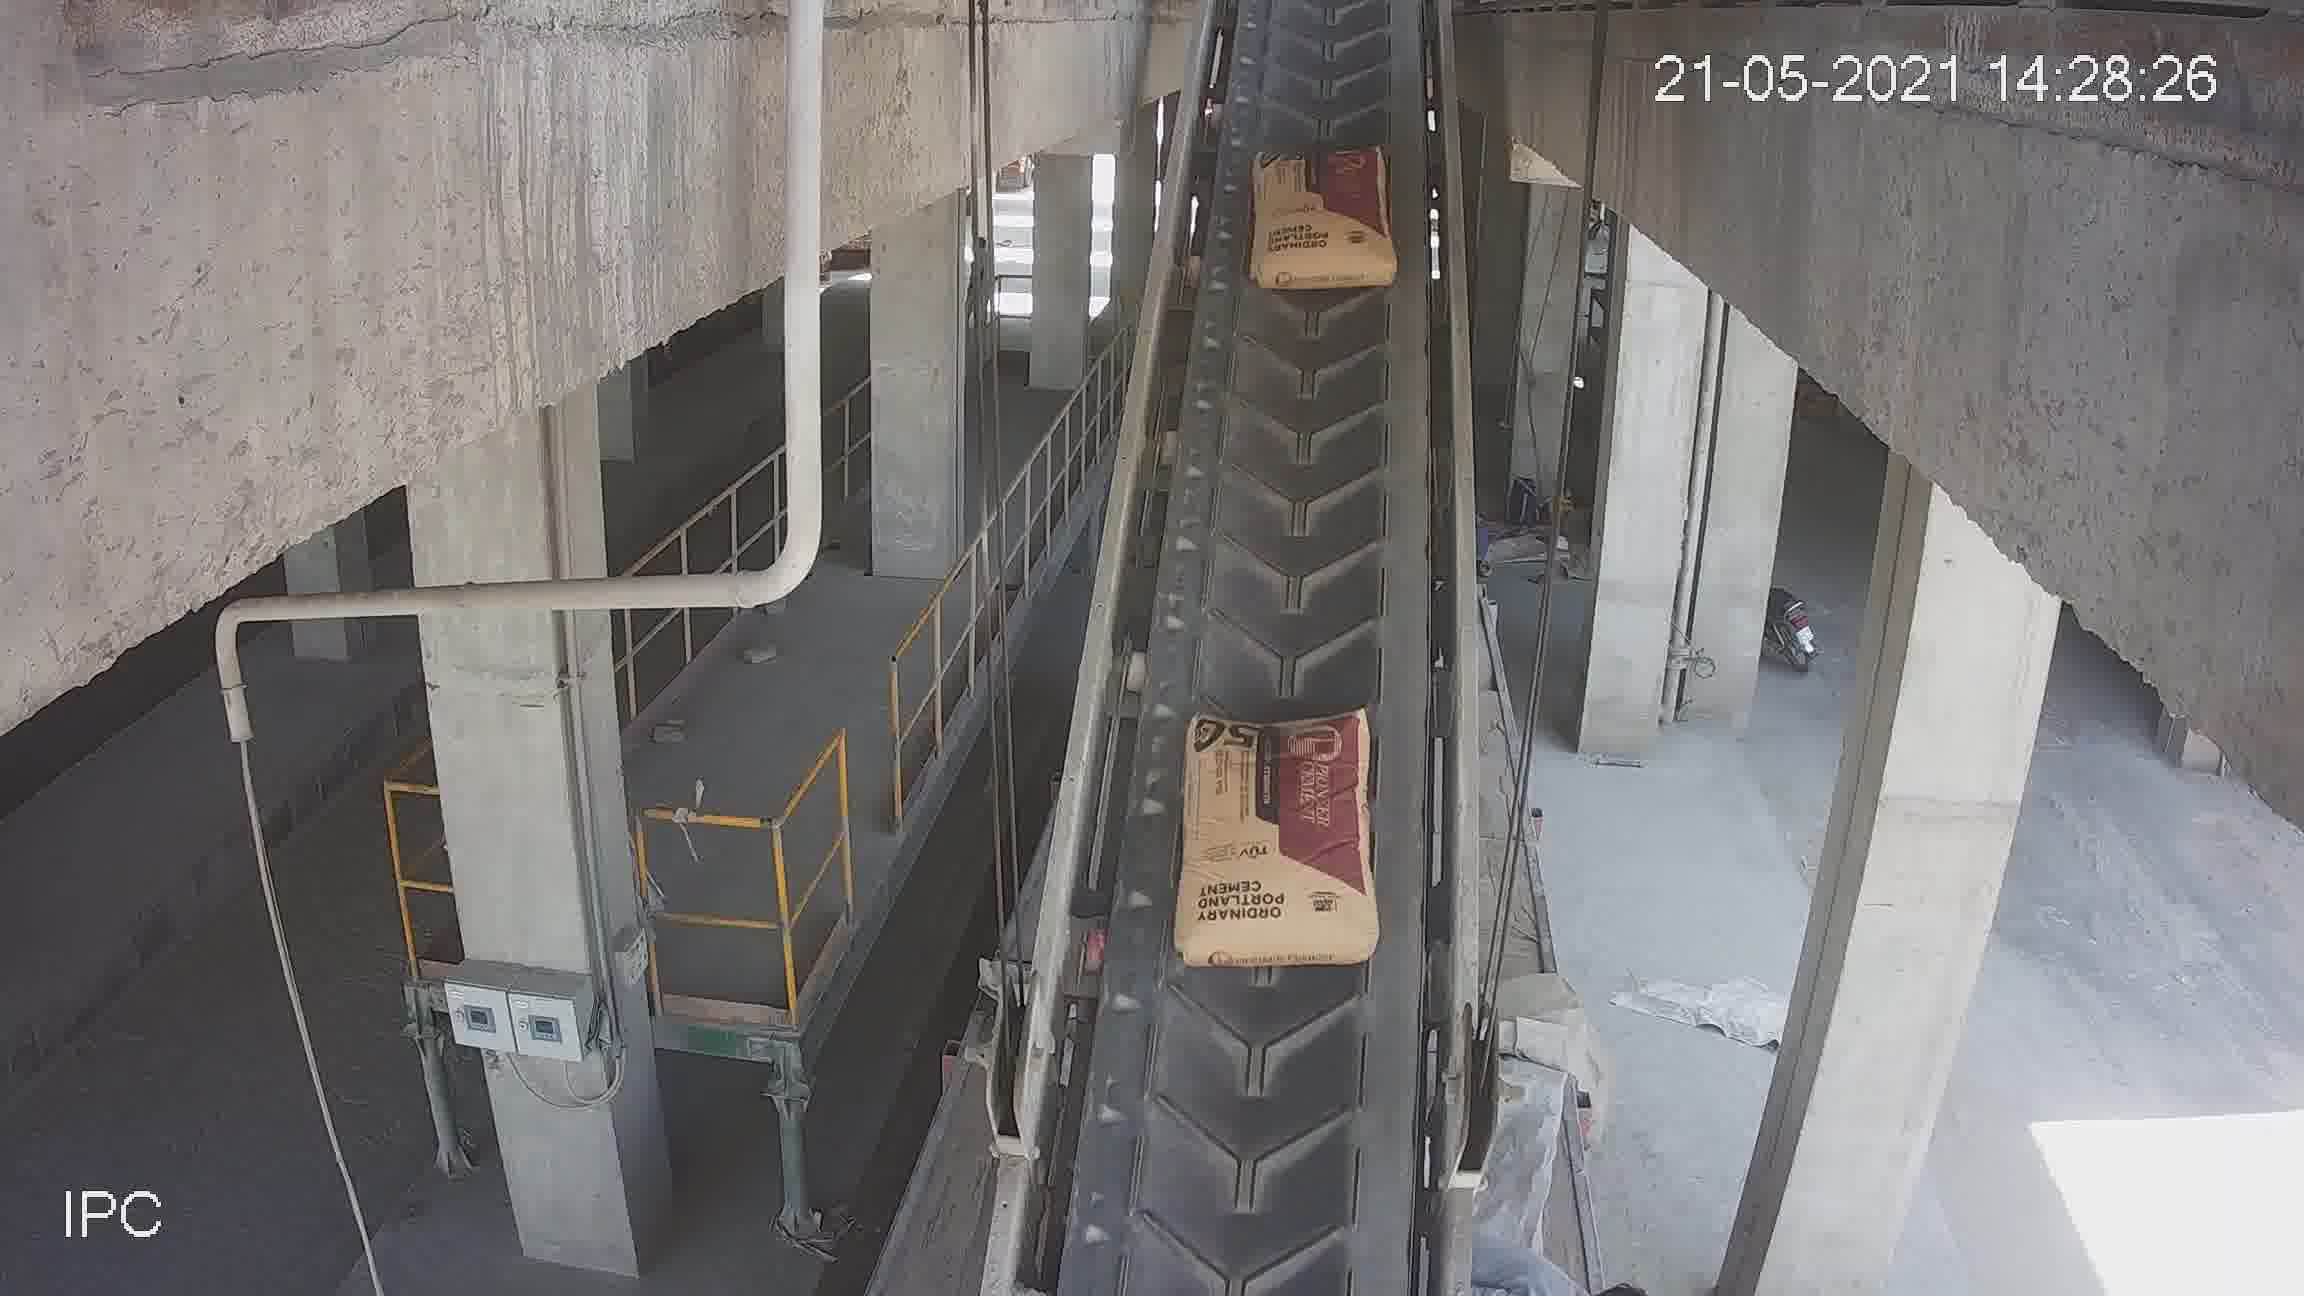bag: (1184, 709, 1367, 968), (1249, 139, 1393, 285)
belt: (1051, 73, 1486, 1261)
